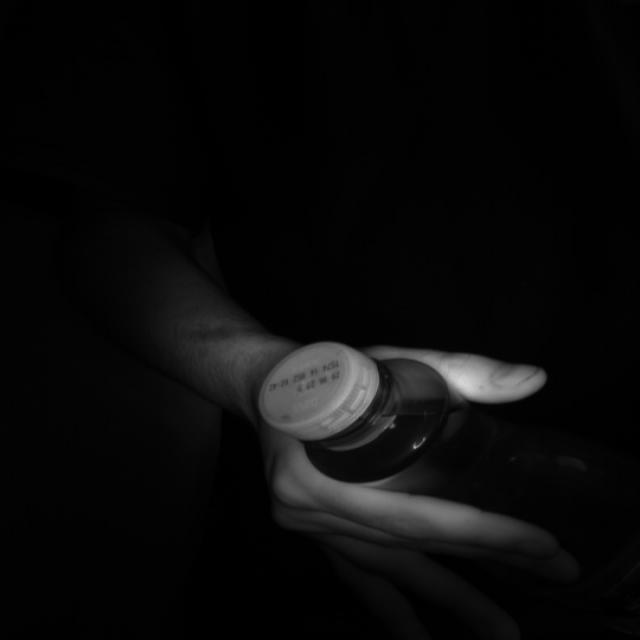Not Good: (256, 341, 396, 446)
